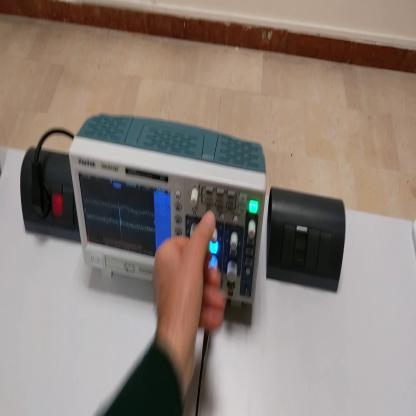hand: (152, 206, 223, 387)
oscilloscope: (69, 110, 269, 304)
socket: (21, 149, 80, 251)
